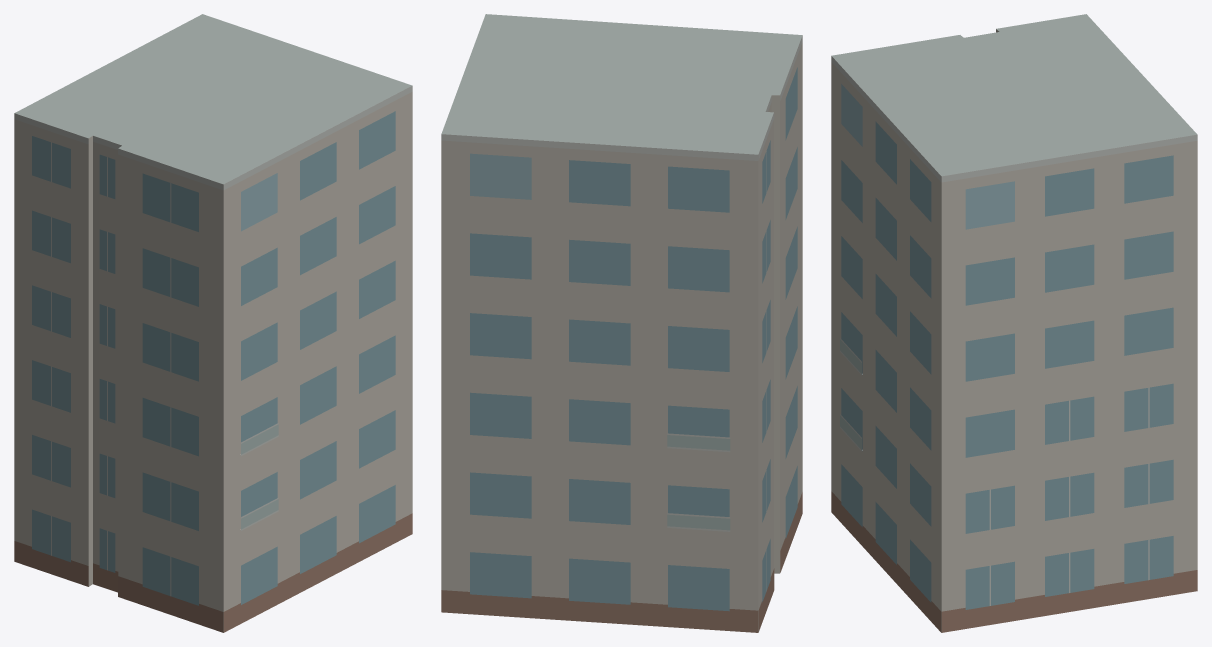
File: survey-upis-32955067.glb
3 views of the same model, side by side, from view 1: azimuth 30°, elevation 25°; view 2: azimuth 150°, elevation 25°; view 3: azimuth 270°, elevation 25° (orthographic). The views are drawn at different scales.
Visible parts, largest first — view 1: survey-upis-32955067.tmp; view 2: survey-upis-32955067.tmp; view 3: survey-upis-32955067.tmp.
Boxes of the visible parts, box(x1,y1,x2,y2) form: survey-upis-32955067.tmp: box(14, 14, 412, 632); survey-upis-32955067.tmp: box(441, 14, 802, 632); survey-upis-32955067.tmp: box(831, 14, 1197, 632).
Size of the model in its own units: 13.98 by 18.3 by 13.32.
